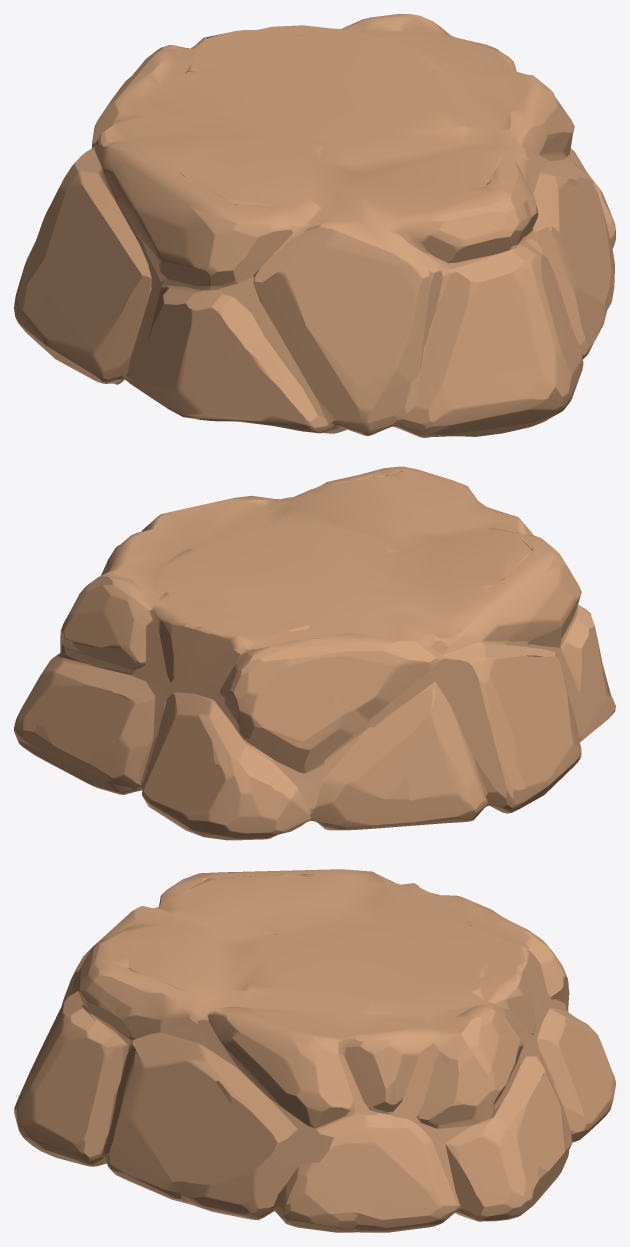
3 views of the same model, one above another, from view 1: azimuth 30°, elevation 25°; view 2: azimuth 150°, elevation 25°; view 3: azimuth 270°, elevation 25° (orthographic). The views are drawn at different scales.
Visible parts, largest first — view 1: Mesh_19_LOD0; view 2: Mesh_19_LOD0; view 3: Mesh_19_LOD0.
Boxes of the visible parts, left/top/right/bottom form: Mesh_19_LOD0: left=14, top=14, right=615, bottom=437; Mesh_19_LOD0: left=14, top=466, right=615, bottom=840; Mesh_19_LOD0: left=14, top=869, right=615, bottom=1232.
Size of what is drawn, in the model's own units: 2673 by 965 by 2921.
